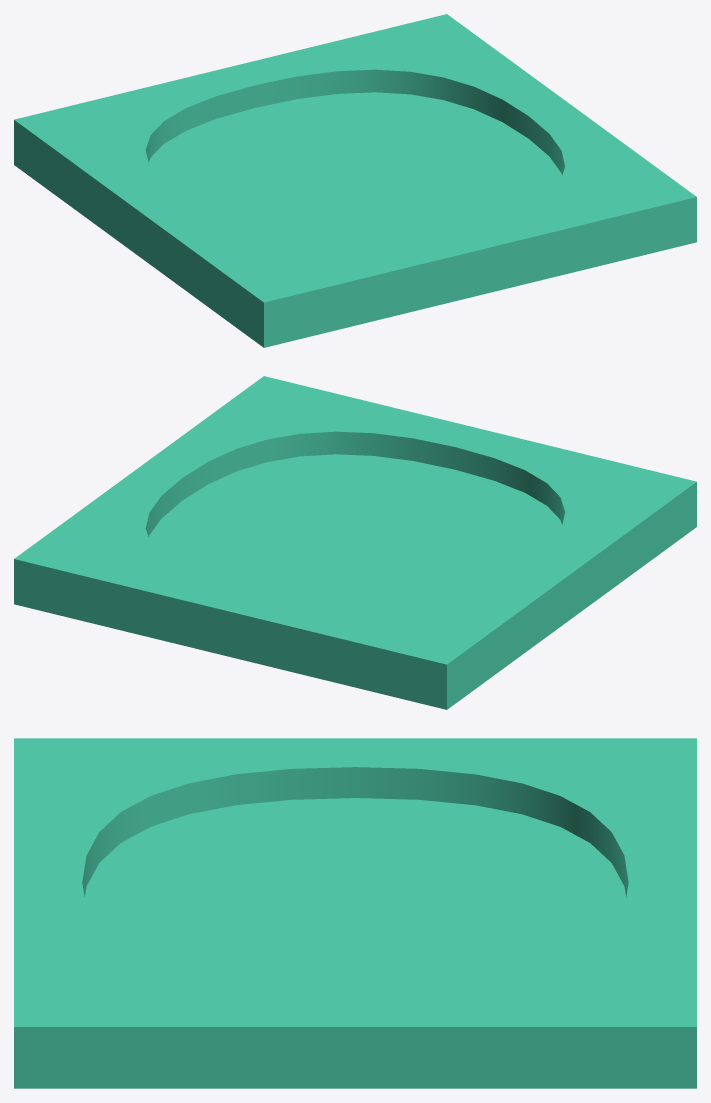
File: Floor_1x1m_B.FBX
The picture shows the model from 3 angles, top to bottom: view 1: azimuth 30°, elevation 25°; view 2: azimuth 150°, elevation 25°; view 3: azimuth 270°, elevation 25°; orthographic projection. The views are drawn at different scales.
Parts seen in each view (by area): view 1: Floor_1x1m_B; view 2: Floor_1x1m_B; view 3: Floor_1x1m_B.
Part boxes in pixels (x1,y1,x2,y2): Floor_1x1m_B: (14, 14, 696, 347); Floor_1x1m_B: (14, 376, 696, 709); Floor_1x1m_B: (14, 738, 696, 1088).
Bounding box in the file's own units: 100 × 10 × 100.
